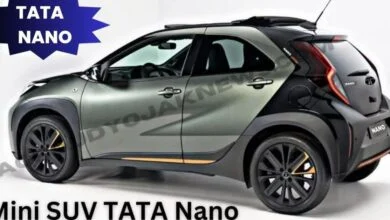Nano: (5, 15, 390, 220)
